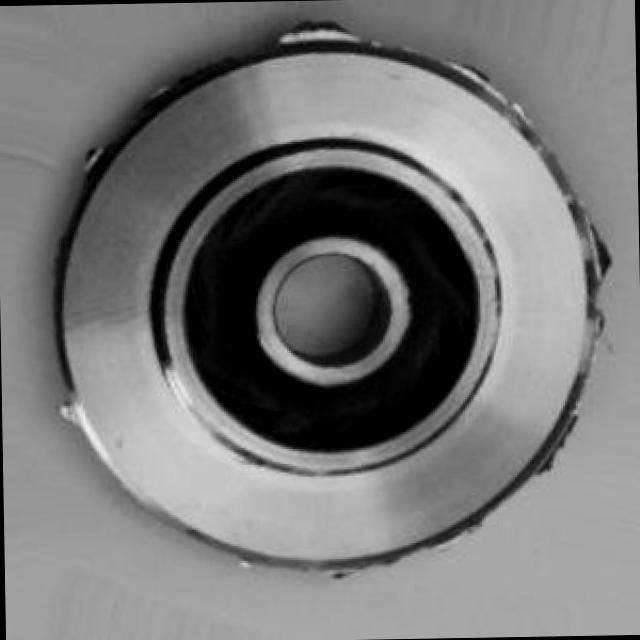Defect: (272, 9, 374, 52)
